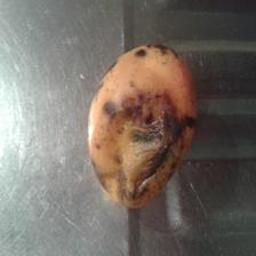Mango Rotten: (84, 32, 205, 217)
